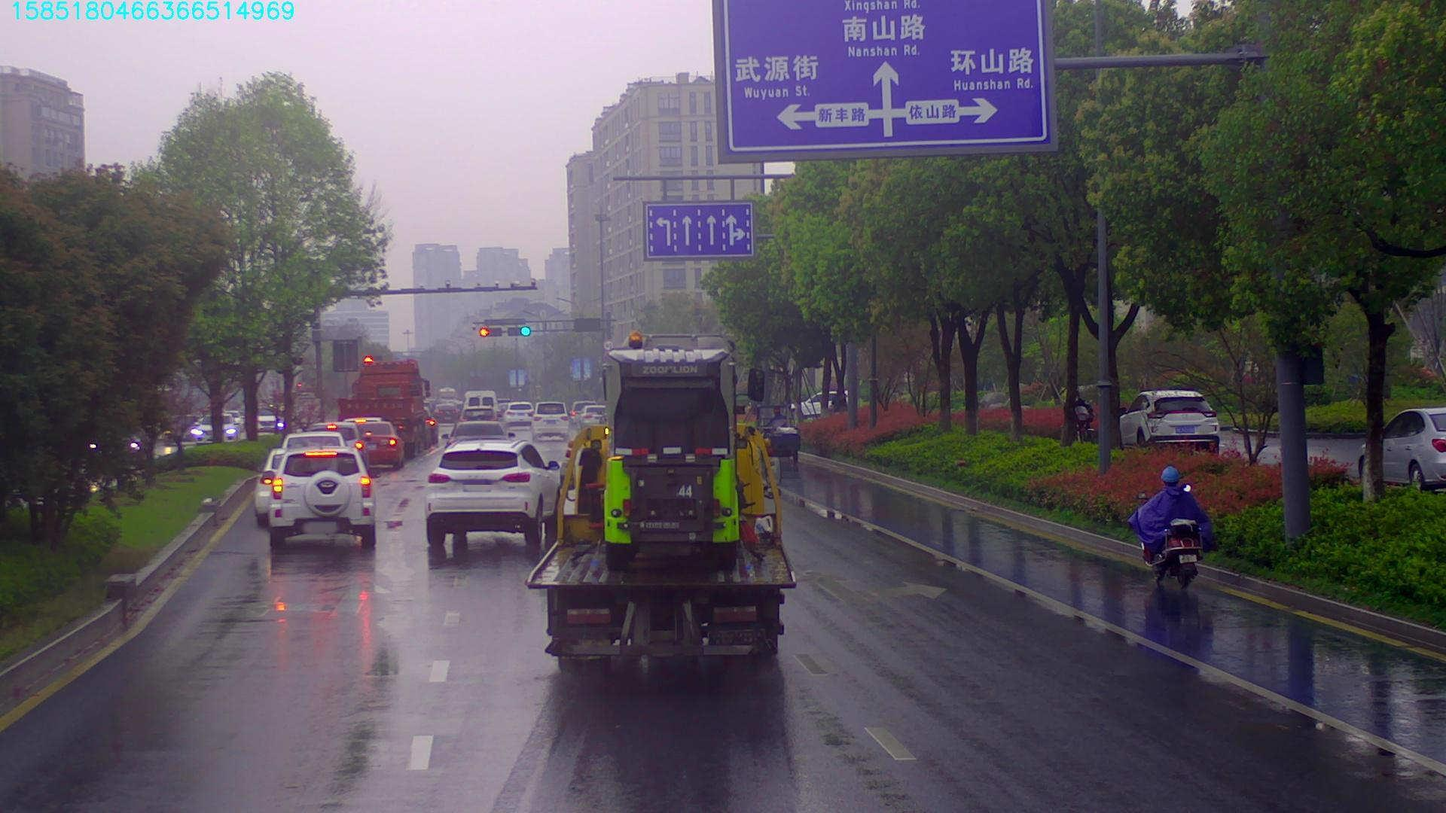green: (505, 325, 531, 337)
red: (476, 325, 500, 337)
